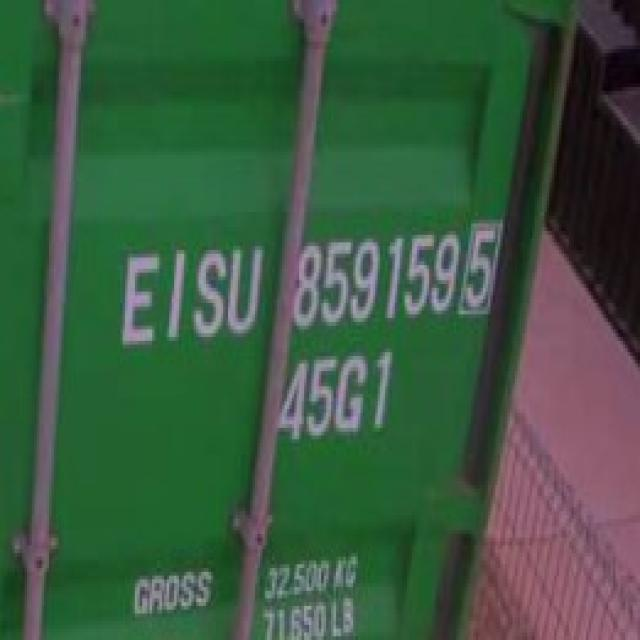dv: (463, 215, 505, 322)
owner: (116, 226, 264, 348)
serial: (290, 220, 460, 332)
size: (271, 347, 415, 447)
